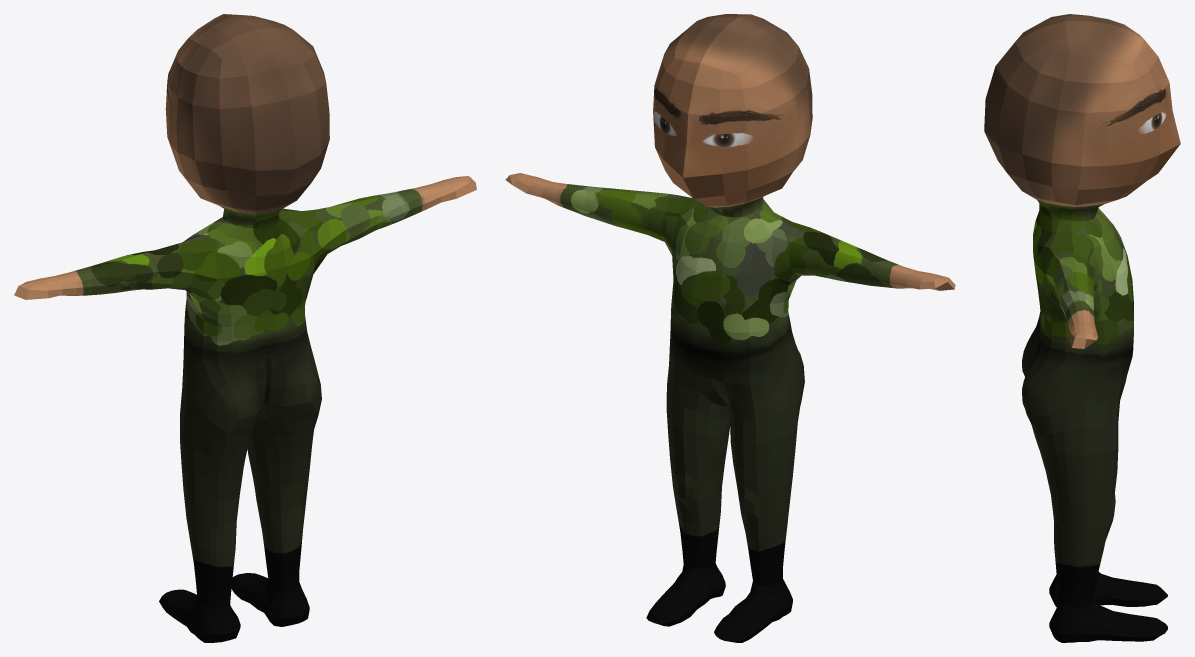
The model's file is PERSONAJE 4.fbx.
3 views of the same model, side by side, from view 1: azimuth 30°, elevation 25°; view 2: azimuth 150°, elevation 25°; view 3: azimuth 270°, elevation 25° (orthographic). The views are drawn at different scales.
Visible parts, largest first — view 1: Mono_base_con_uvs:polySurface7; view 2: Mono_base_con_uvs:polySurface7; view 3: Mono_base_con_uvs:polySurface7.
Boxes of the visible parts, left/top/right/bottom form: Mono_base_con_uvs:polySurface7: left=14, top=14, right=476, bottom=642; Mono_base_con_uvs:polySurface7: left=505, top=14, right=955, bottom=642; Mono_base_con_uvs:polySurface7: left=984, top=14, right=1180, bottom=642.
Bounding box in the file's own units: 3.57 × 4.45 × 1.32.
1 material, 1 textured.
